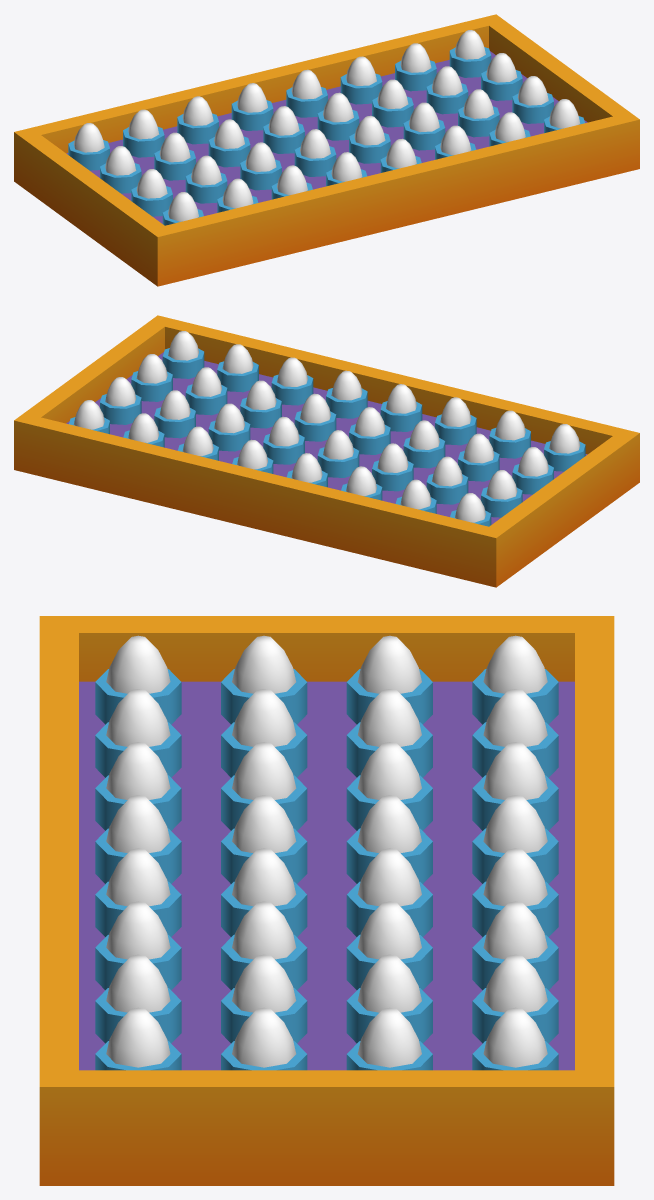
Rendered from Ground_Spike_02.fbx.
The picture shows the model from 3 angles, top to bottom: view 1: azimuth 30°, elevation 25°; view 2: azimuth 150°, elevation 25°; view 3: azimuth 270°, elevation 25°; orthographic projection. The views are drawn at different scales.
Visible parts, largest first — view 1: Obstacle_Ground_Spike_02, Obstacle_Ground_Spike_02_Spike; view 2: Obstacle_Ground_Spike_02, Obstacle_Ground_Spike_02_Spike; view 3: Obstacle_Ground_Spike_02, Obstacle_Ground_Spike_02_Spike.
Boxes of the visible parts, <box> form: Obstacle_Ground_Spike_02: <box>14,14,639,286</box>; Obstacle_Ground_Spike_02_Spike: <box>73,30,580,221</box>; Obstacle_Ground_Spike_02: <box>14,315,639,587</box>; Obstacle_Ground_Spike_02_Spike: <box>73,331,580,522</box>; Obstacle_Ground_Spike_02: <box>39,616,614,1185</box>; Obstacle_Ground_Spike_02_Spike: <box>106,635,547,1067</box>.
Size of the model in its own units: 217 by 26.81 by 112.
1 material, 1 textured.
